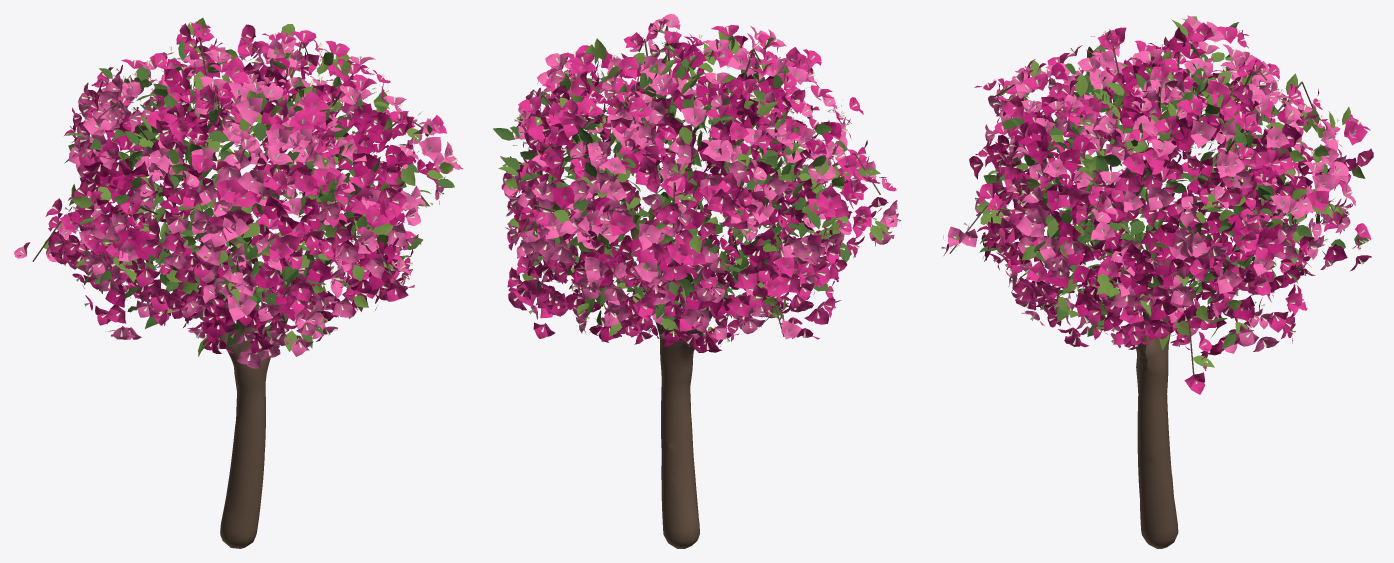
The model's file is tree-vine.glb.
The picture shows the model from 3 angles, left to right: view 1: azimuth 30°, elevation 25°; view 2: azimuth 150°, elevation 25°; view 3: azimuth 270°, elevation 25°; orthographic projection.
Parts seen in each view (by area): view 1: pink29, magenta30, rose31, leafdark34, leaf33, bark0, cream32; view 2: magenta30, pink29, rose31, leafdark34, leaf33, bark0, cream32; view 3: magenta30, pink29, rose31, leaf33, leafdark34, bark0, cream32.
Boxes of the visible parts, x1=… form: pink29: x1=14, y1=33, x2=463, y2=368; magenta30: x1=45, y1=21, x2=446, y2=333; rose31: x1=70, y1=51, x2=439, y2=353; leafdark34: x1=64, y1=37, x2=454, y2=348; leaf33: x1=43, y1=18, x2=454, y2=356; bark0: x1=158, y1=202, x2=328, y2=548; cream32: x1=20, y1=22, x2=457, y2=360; magenta30: x1=501, y1=21, x2=897, y2=352; pink29: x1=500, y1=14, x2=898, y2=347; rose31: x1=510, y1=31, x2=886, y2=352; leafdark34: x1=493, y1=35, x2=850, y2=338; leaf33: x1=498, y1=29, x2=888, y2=337; bark0: x1=626, y1=208, x2=737, y2=548; cream32: x1=502, y1=19, x2=901, y2=349; magenta30: x1=943, y1=18, x2=1373, y2=394; pink29: x1=947, y1=15, x2=1357, y2=353; rose31: x1=977, y1=27, x2=1356, y2=356; leaf33: x1=953, y1=16, x2=1365, y2=367; leafdark34: x1=979, y1=22, x2=1368, y2=349; bark0: x1=1133, y1=174, x2=1204, y2=548; cream32: x1=941, y1=22, x2=1370, y2=383.
Bounding box in the file's own units: 2.91 × 3.88 × 3.08.
